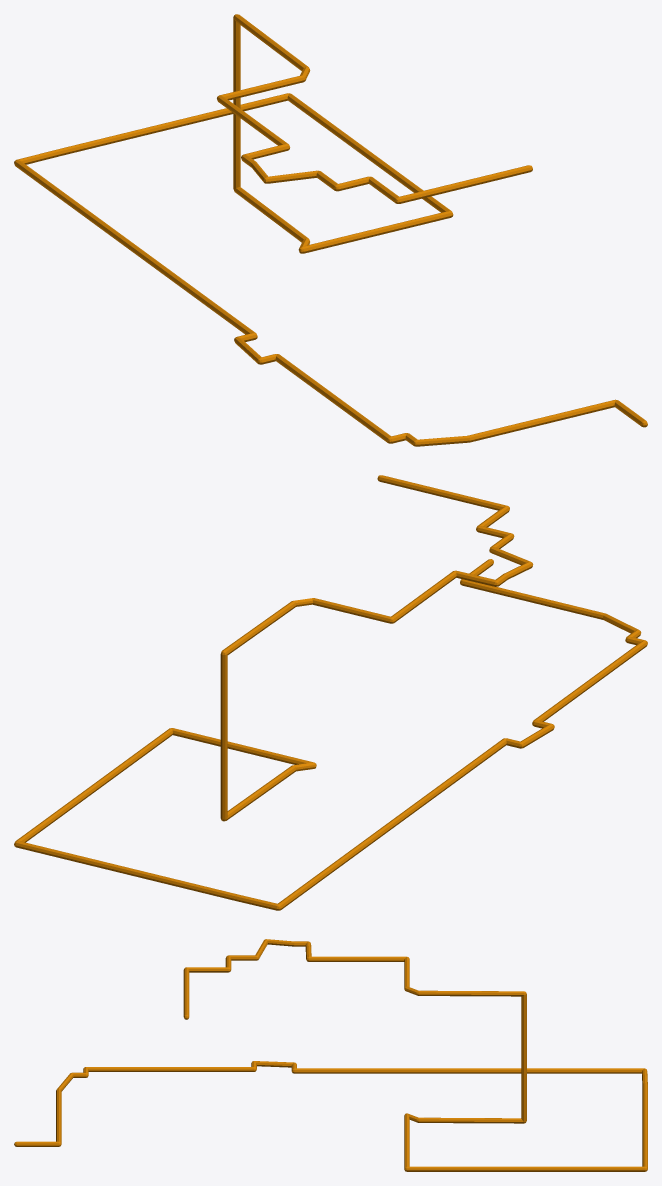
3 views of the same model, one above another, from view 1: azimuth 30°, elevation 25°; view 2: azimuth 150°, elevation 25°; view 3: azimuth 270°, elevation 25° (orthographic). The views are drawn at different scales.
Size of the model in its own units: 912 by 520 by 2263.
